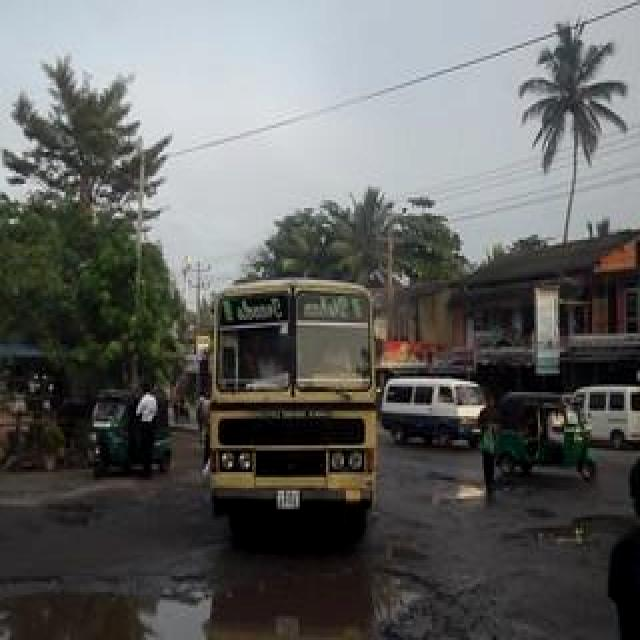Bus: (202, 278, 383, 542)
Van: (382, 375, 492, 450), (565, 381, 640, 453)
